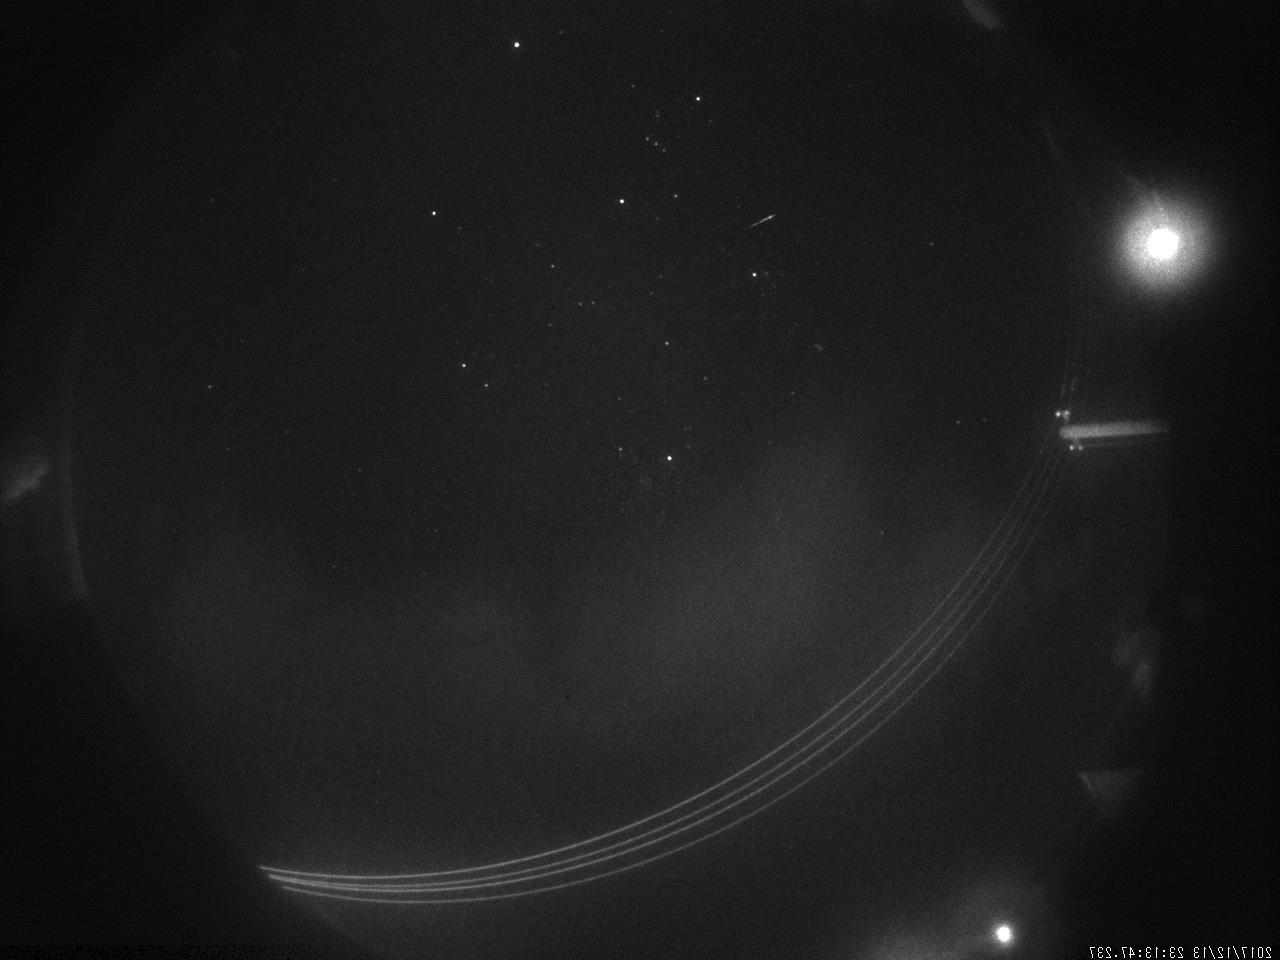meteor: (730, 200, 794, 250)
